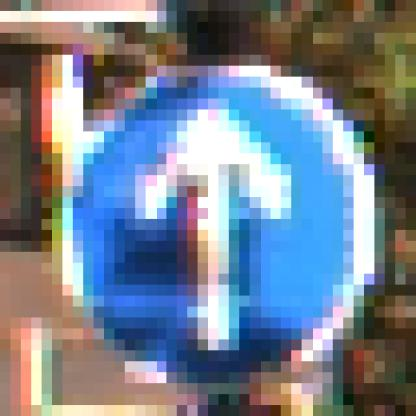AheadOnly: (53, 56, 355, 362)
